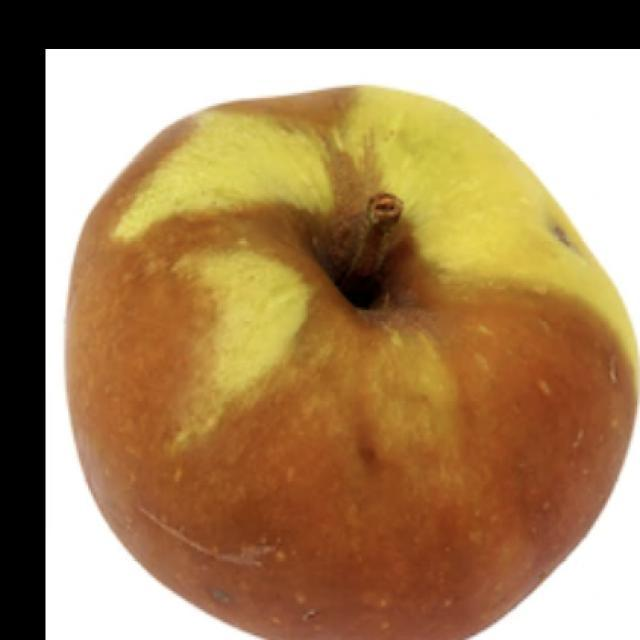Rotten: (70, 96, 640, 640)
